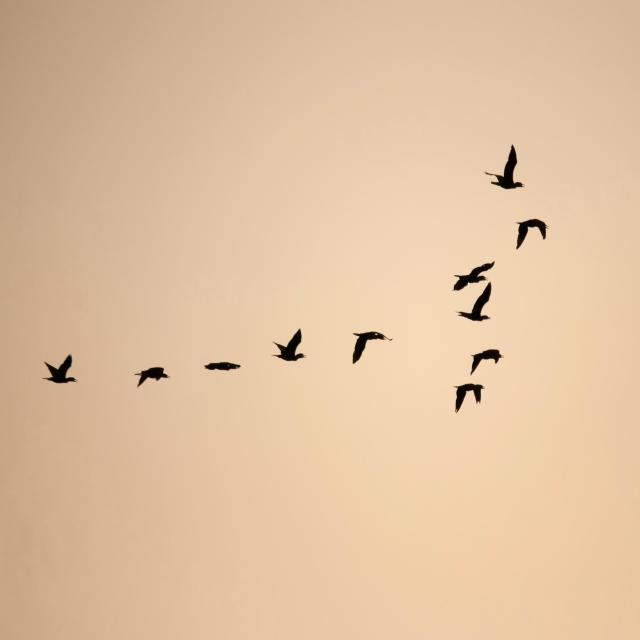bird: (484, 146, 524, 190), (353, 330, 393, 366), (270, 326, 304, 366), (457, 287, 492, 325), (452, 259, 493, 291), (516, 216, 550, 251), (42, 354, 76, 386), (469, 346, 504, 376), (454, 384, 486, 416), (137, 362, 170, 388), (204, 356, 243, 378)
